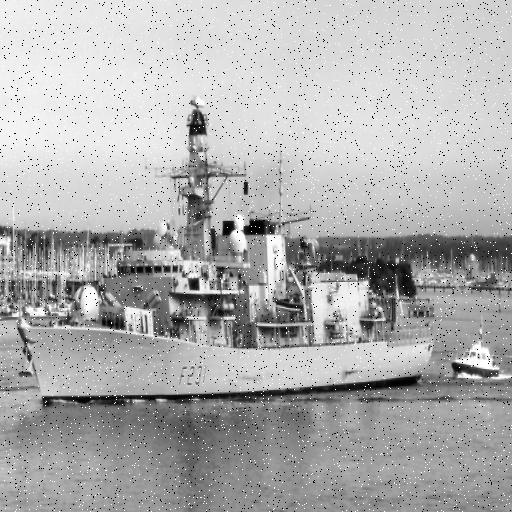Fragata: (16, 100, 441, 409)
